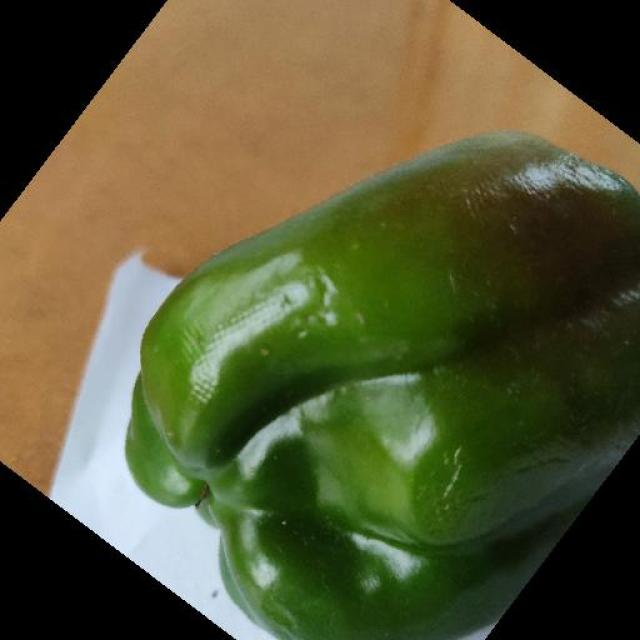Stale_Capsicum: (119, 166, 640, 588)
